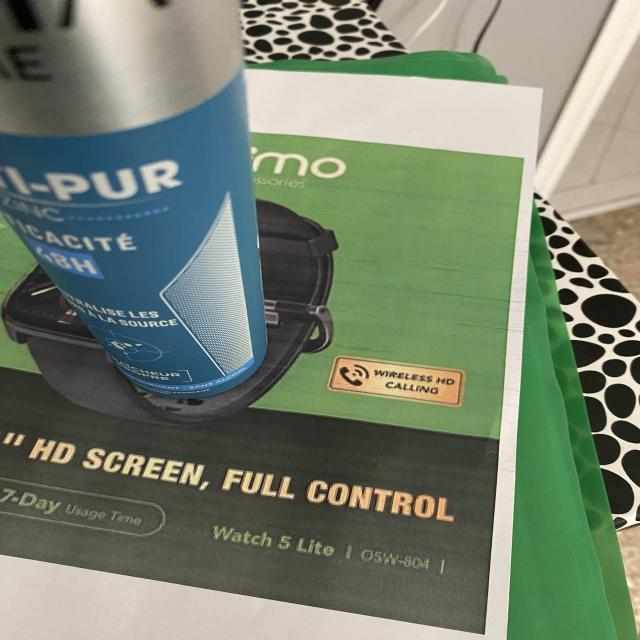Watch 5 Lite OSW-804: (205, 515, 456, 581)
